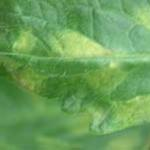Tomato mold leaf: (0, 1, 149, 139)
